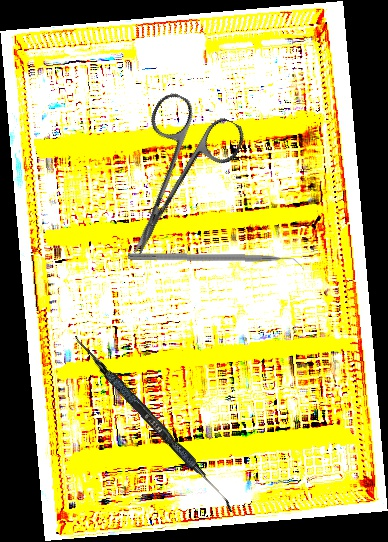Chopper: (127, 252, 305, 273)
Iris Scissors: (92, 87, 249, 275)
Spatula Surgical: (68, 334, 241, 513)
